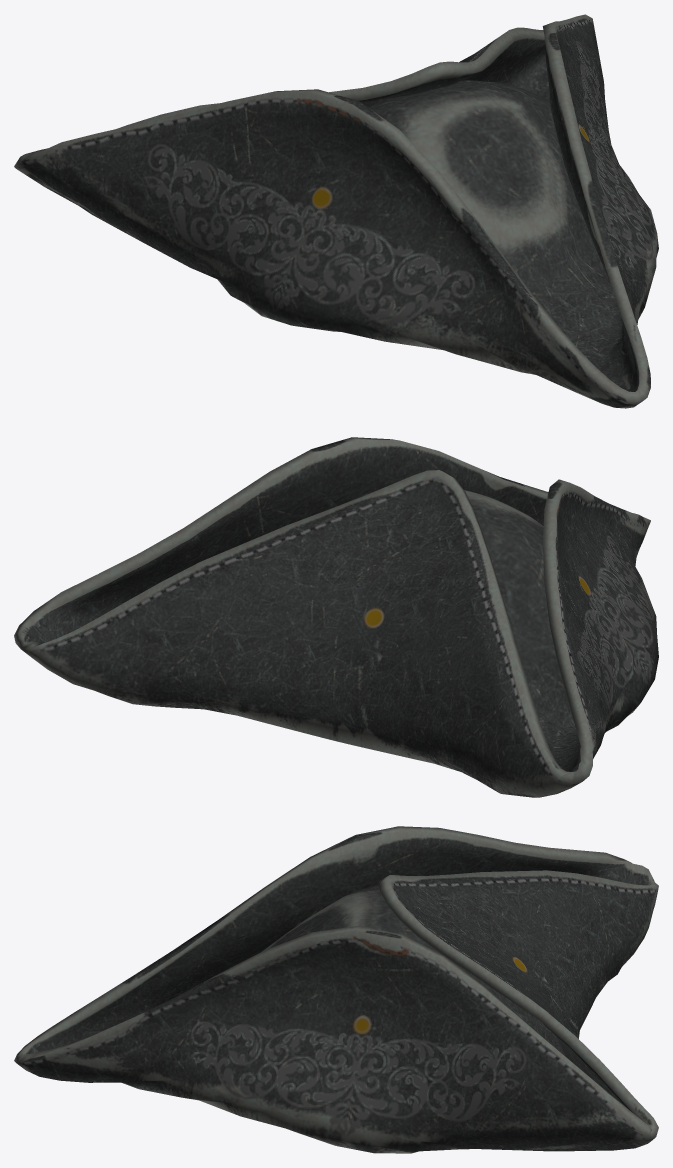
File: hat_3.glb
The picture shows the model from 3 angles, top to bottom: view 1: azimuth 30°, elevation 25°; view 2: azimuth 150°, elevation 25°; view 3: azimuth 270°, elevation 25°; orthographic projection. The views are drawn at different scales.
Parts seen in each view (by area): view 1: low poly; view 2: low poly; view 3: low poly.
Boxes of the visible parts, x1,y1,x2,y2 form: low poly: [14, 14, 658, 408]; low poly: [14, 437, 658, 797]; low poly: [14, 826, 658, 1153].
Size of the model in its own units: 0.3334 by 0.1179 by 0.3451.
1 material, 1 textured.
